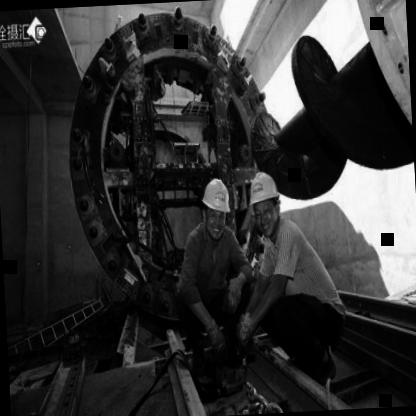helmet: (245, 164, 283, 238), (198, 172, 233, 238)
